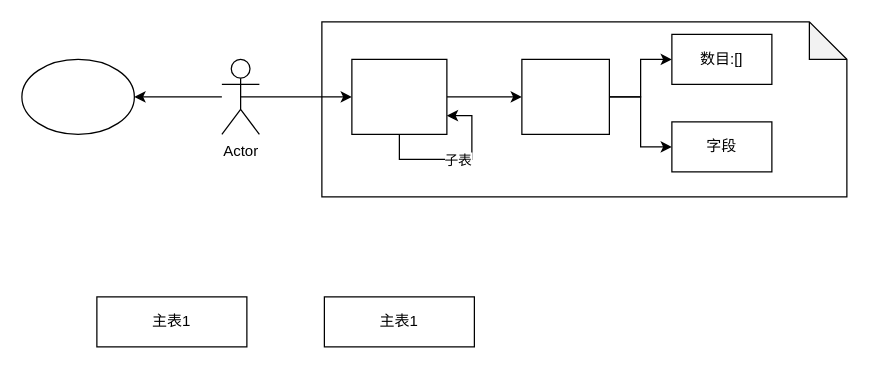
The diagram is 869 pixels wide and 369 high, and some of its shapes have lost their labels. Here are the shapes that lost their labels. From the top down, the centre of each, then its label:
the point at 77,96: 身份属性
the point at 399,96: 表信息：parent:-1
the point at 565,96: 记录
